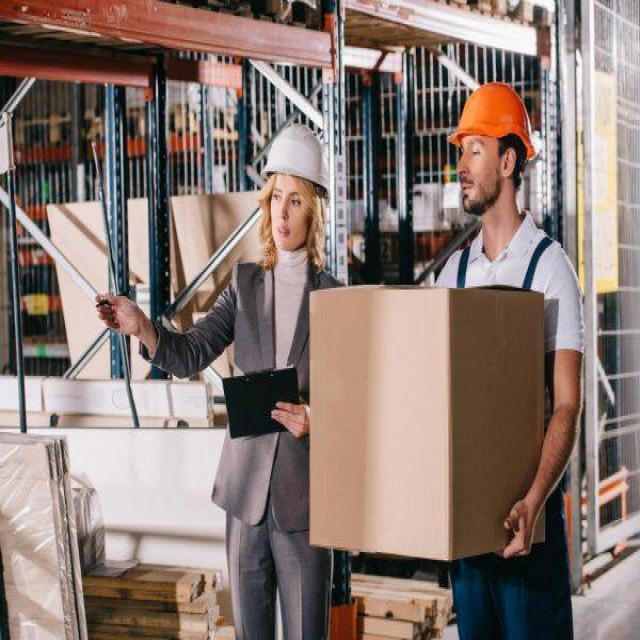box: (302, 266, 546, 558)
